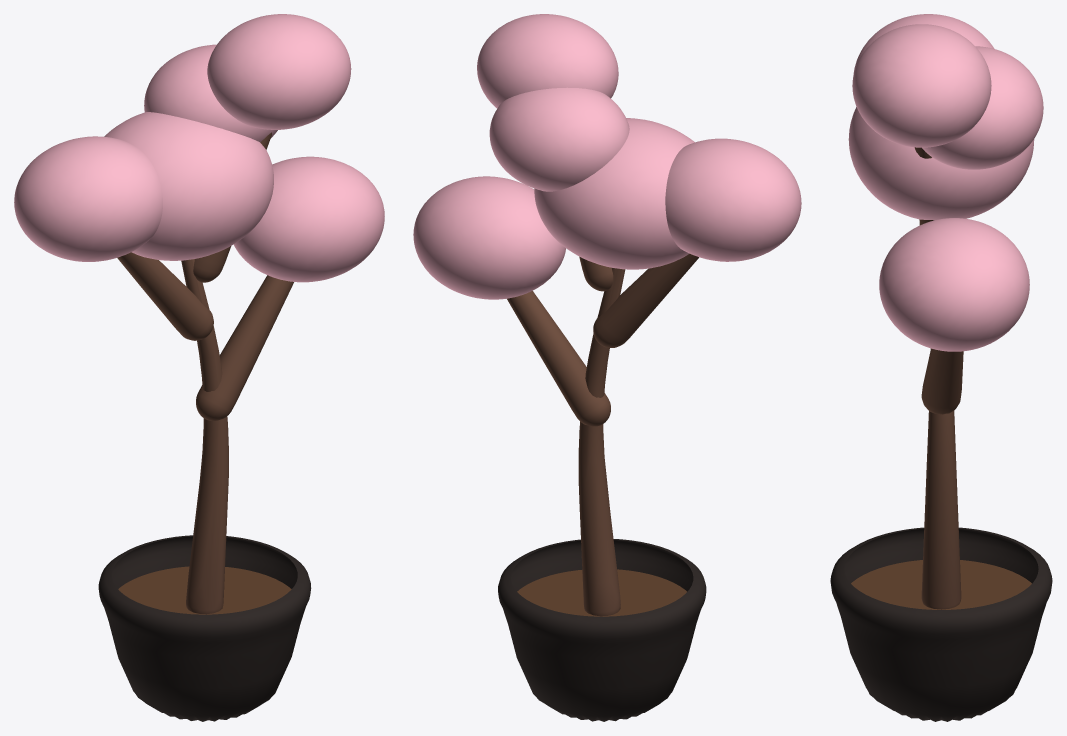
File: deco_cerezo.glb
3 renders of one model, left to right at view 1: azimuth 30°, elevation 25°; view 2: azimuth 150°, elevation 25°; view 3: azimuth 270°, elevation 25°, orthographic. The views are drawn at different scales.
Visible parts, largest first — view 1: matera.003, copa cerezo 0.001, copa cerezo 2.001, copa cerezo 1.001, copa cerezo 3.001, rama cerezo 0.001, copa cerezo 4.001, rama cerezo 1.001, tierra.003, rama cerezo 2.001, rama cerezo 3.001; view 2: matera.003, copa cerezo 1.001, copa cerezo 0.001, copa cerezo 2.001, copa cerezo 4.001, copa cerezo 3.001, rama cerezo 0.001, rama cerezo 1.001, tierra.003, rama cerezo 2.001, rama cerezo 3.001; view 3: matera.003, copa cerezo 1.001, copa cerezo 3.001, copa cerezo 0.001, copa cerezo 4.001, rama cerezo 0.001, tierra.003, rama cerezo 1.001, copa cerezo 2.001.
Part boxes in pixels (x1,y1,x2,y2): matera.003: (98, 535, 311, 721); copa cerezo 0.001: (104, 112, 273, 260); copa cerezo 2.001: (14, 136, 162, 261); copa cerezo 1.001: (233, 156, 384, 282); copa cerezo 3.001: (207, 14, 351, 129); rama cerezo 0.001: (181, 259, 228, 614); copa cerezo 4.001: (144, 44, 277, 141); rama cerezo 1.001: (196, 275, 293, 420); tierra.003: (118, 566, 291, 614); rama cerezo 2.001: (117, 252, 213, 340); rama cerezo 3.001: (193, 132, 271, 282); matera.003: (498, 539, 706, 721); copa cerezo 1.001: (413, 176, 565, 299); copa cerezo 0.001: (534, 118, 694, 269); copa cerezo 2.001: (665, 138, 801, 261); copa cerezo 4.001: (489, 87, 629, 191); copa cerezo 3.001: (477, 14, 618, 108); rama cerezo 0.001: (578, 268, 625, 616); rama cerezo 1.001: (507, 291, 610, 426); tierra.003: (517, 569, 686, 616); rama cerezo 2.001: (593, 253, 698, 347); rama cerezo 3.001: (579, 256, 613, 291); matera.003: (830, 527, 1052, 721); copa cerezo 1.001: (879, 218, 1029, 351); copa cerezo 3.001: (852, 24, 991, 147); copa cerezo 0.001: (848, 107, 1034, 220); copa cerezo 4.001: (922, 46, 1043, 169); rama cerezo 0.001: (921, 348, 961, 609); tierra.003: (851, 560, 1031, 609); rama cerezo 1.001: (921, 348, 963, 414); copa cerezo 2.001: (853, 14, 994, 73).
Size of the model in its own units: 0.6773 by 1.19 by 0.3413.
